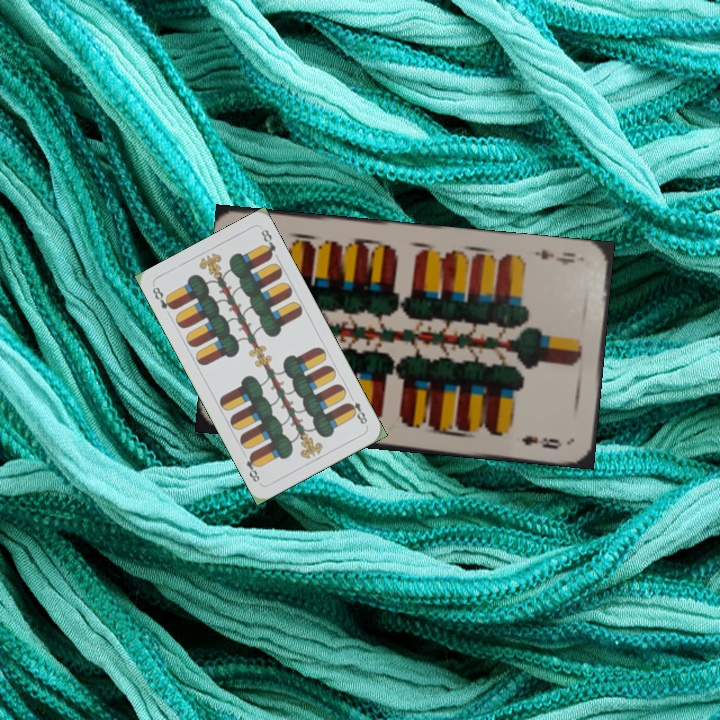E8: (343, 391, 370, 427), (148, 283, 177, 312)
E9: (531, 245, 578, 267)
